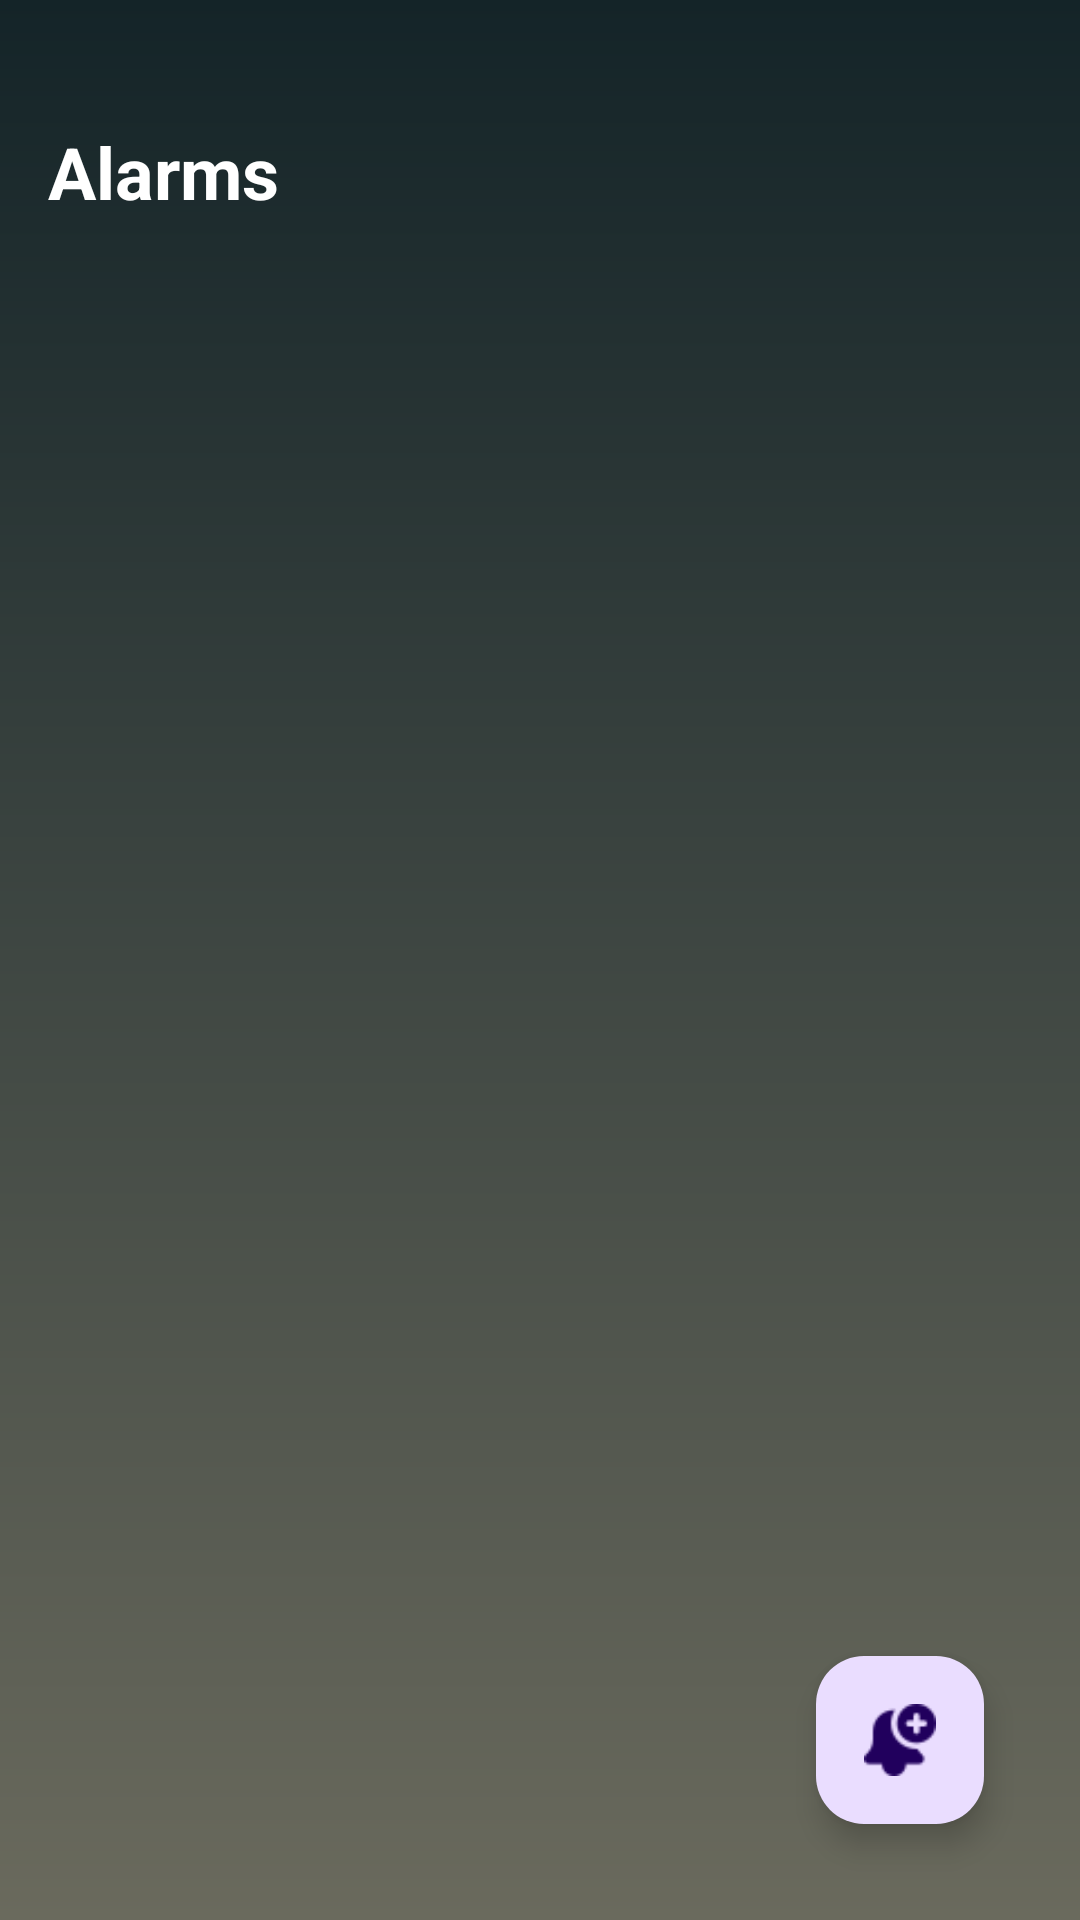

Screen size 1080 x 1920. Icon name, then its box in pixels as (x1, y1, x2, y2):
Add Alarm: (816, 1656, 984, 1824)
